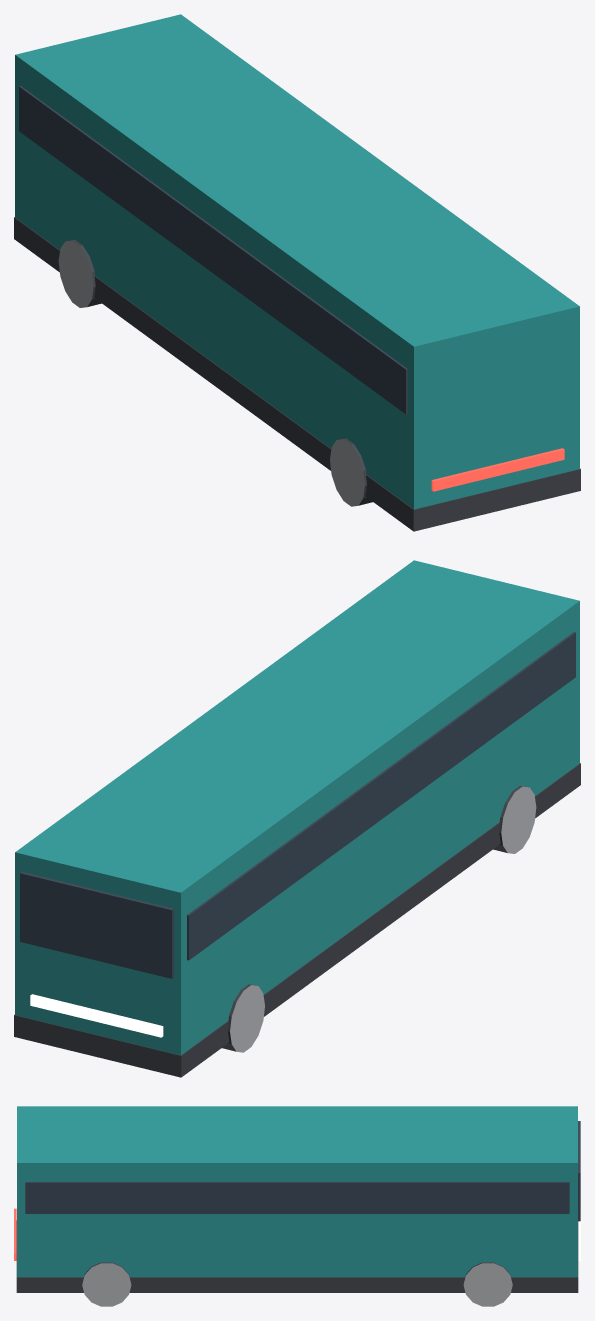
Rendered from bus_teal.glb.
The picture shows the model from 3 angles, top to bottom: view 1: azimuth 30°, elevation 25°; view 2: azimuth 150°, elevation 25°; view 3: azimuth 270°, elevation 25°; orthographic projection. The views are drawn at different scales.
Parts seen in each view (by area): view 1: body, windows, skirt, wheel (×2), taillights; view 2: body, windows, skirt, windshield, wheel (×2), headlights; view 3: body, windows, skirt, wheel (×2), windshield.
Boxes of the visible parts, x1,y1,x2,y2 form: body: (15,14,579,509); windows: (19,86,407,414); skirt: (14,217,580,531); wheel (×2): (58,239,372,506); taillights: (431,448,564,491); body: (15,560,579,1055); windows: (187,632,575,960); skirt: (14,763,580,1077); windshield: (20,872,173,978); wheel (×2): (222,785,536,1052); headlights: (30,994,163,1037); body: (17,1106,577,1277); windows: (25,1182,569,1213); skirt: (16,1220,578,1292); wheel (×2): (82,1262,512,1306); windshield: (578,1121,580,1221).
Bounding box in the file's own units: 2.48 × 2.81 × 10.11.
